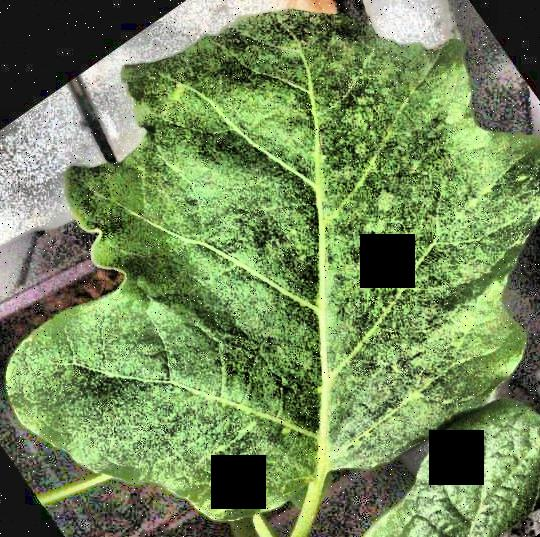HEALTHY: (0, 1, 540, 537)
